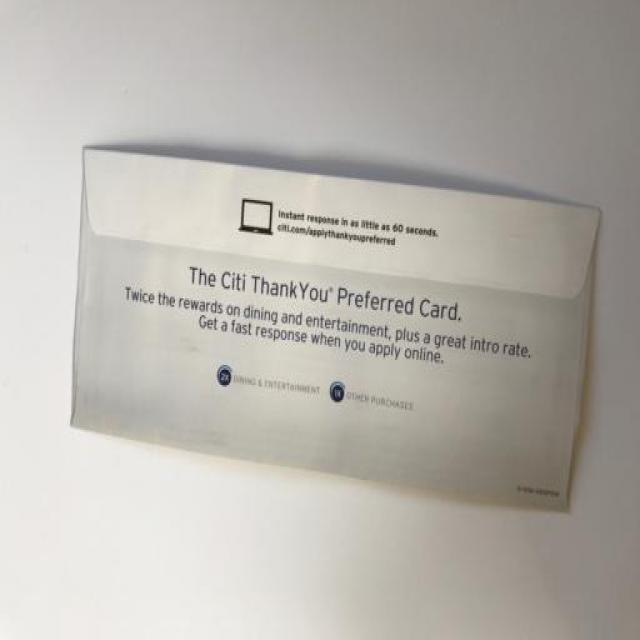paper: (56, 130, 615, 565)
